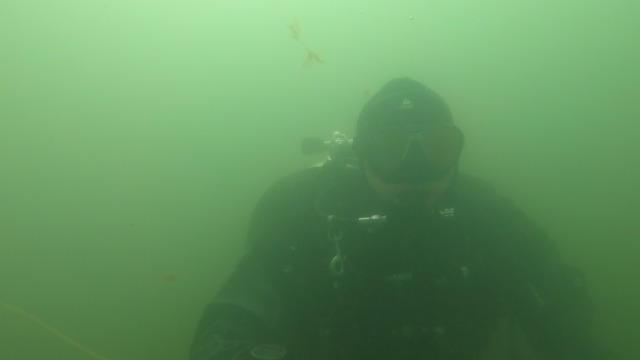Diver: (169, 47, 616, 358)
Head: (300, 63, 513, 263)
